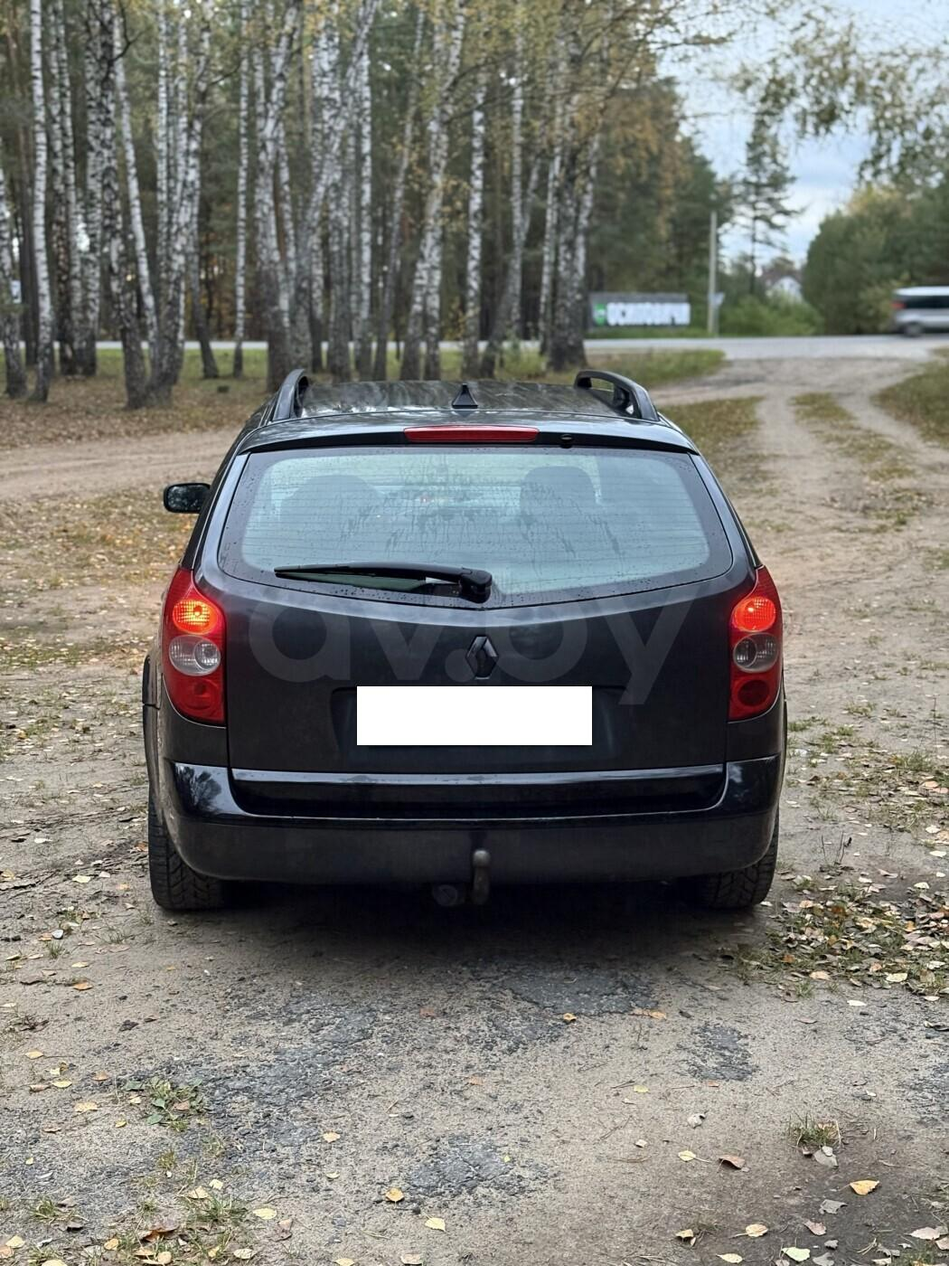Laguna_2001-2005: (143, 371, 785, 911)
